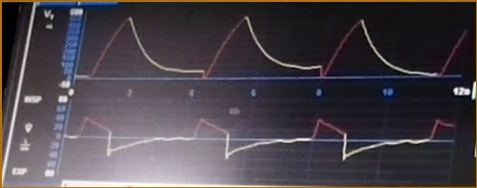Flow: (69, 113, 455, 174)
Leakage Volume: (84, 13, 461, 86)
